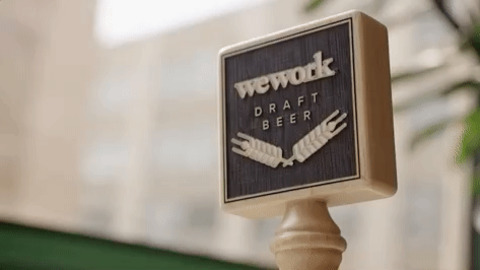wework: (232, 49, 337, 99)
